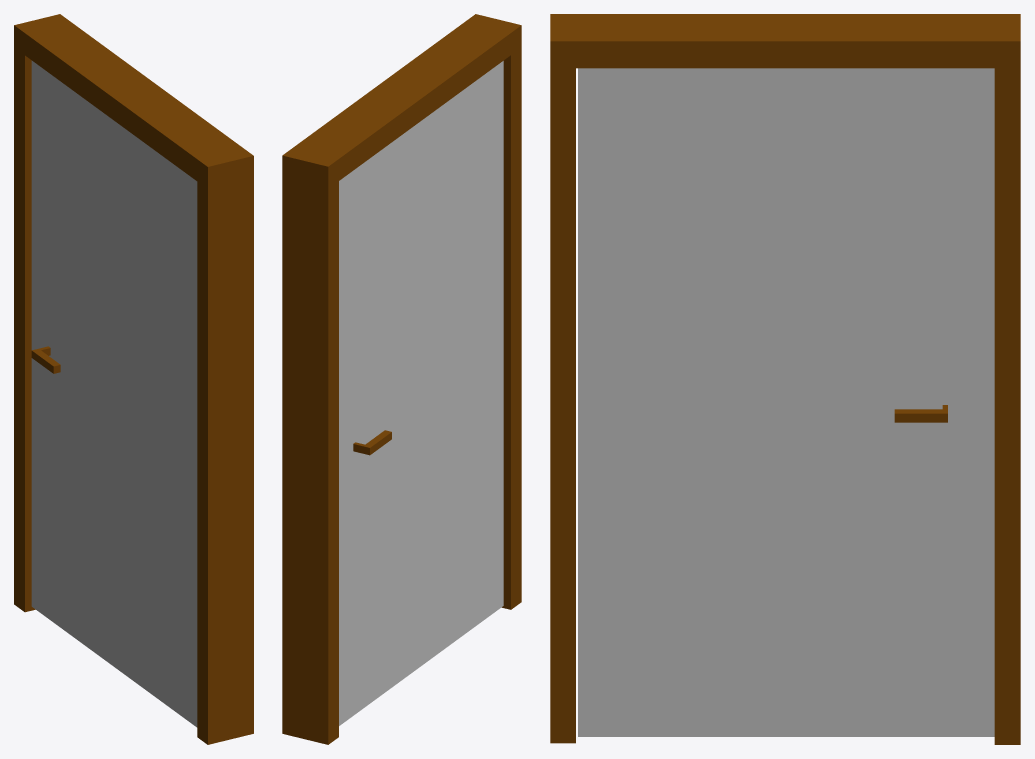
Rendered from door.fbx.
3 renders of one model, left to right at view 1: azimuth 30°, elevation 25°; view 2: azimuth 150°, elevation 25°; view 3: azimuth 270°, elevation 25°, orthographic. The views are drawn at different scales.
Parts seen in each view (by area): view 1: Porte, Batis; view 2: Porte, Batis; view 3: Porte, Batis.
Boxes of the visible parts, <box> form: Porte: <box>31,60,197,727</box>; Batis: <box>14,14,253,744</box>; Porte: <box>339,61,503,725</box>; Batis: <box>282,14,521,744</box>; Porte: <box>578,68,994,736</box>; Batis: <box>550,14,1020,744</box>.
Bounding box in the file's own units: 80.75 × 658 × 399.
